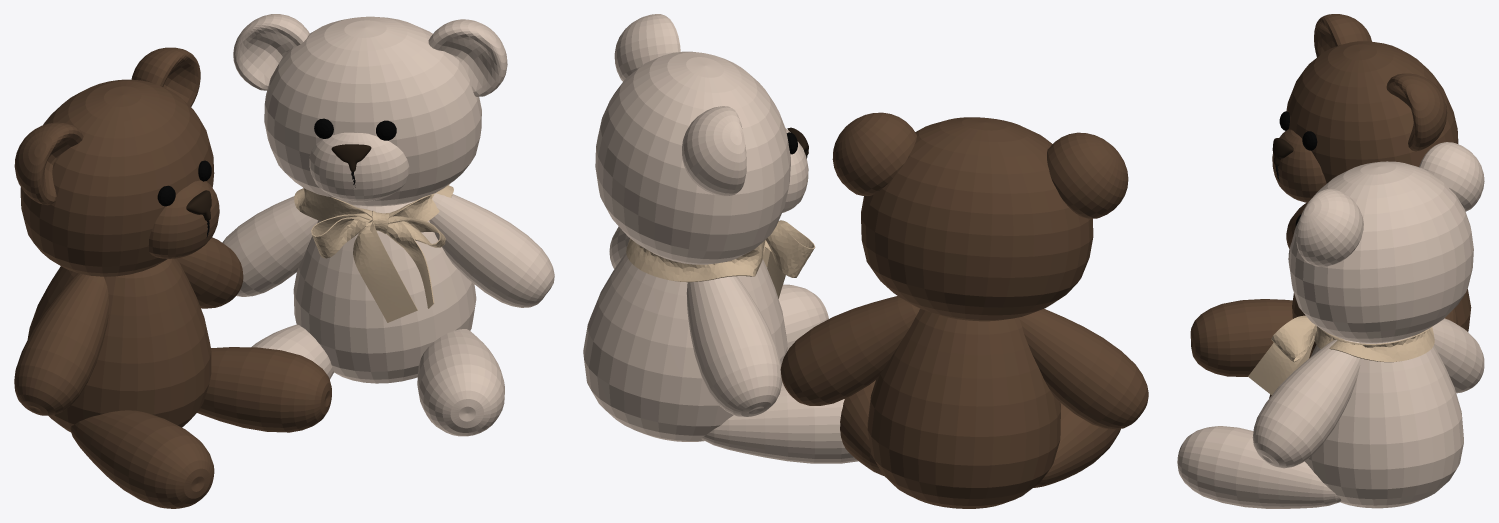
File: teddy_bears_edited.glb
3 renders of one model, left to right at view 1: azimuth 30°, elevation 25°; view 2: azimuth 150°, elevation 25°; view 3: azimuth 270°, elevation 25°, orthographic. The views are drawn at different scales.
Size of the model in its own units: 5.39 by 3.65 by 2.99.
